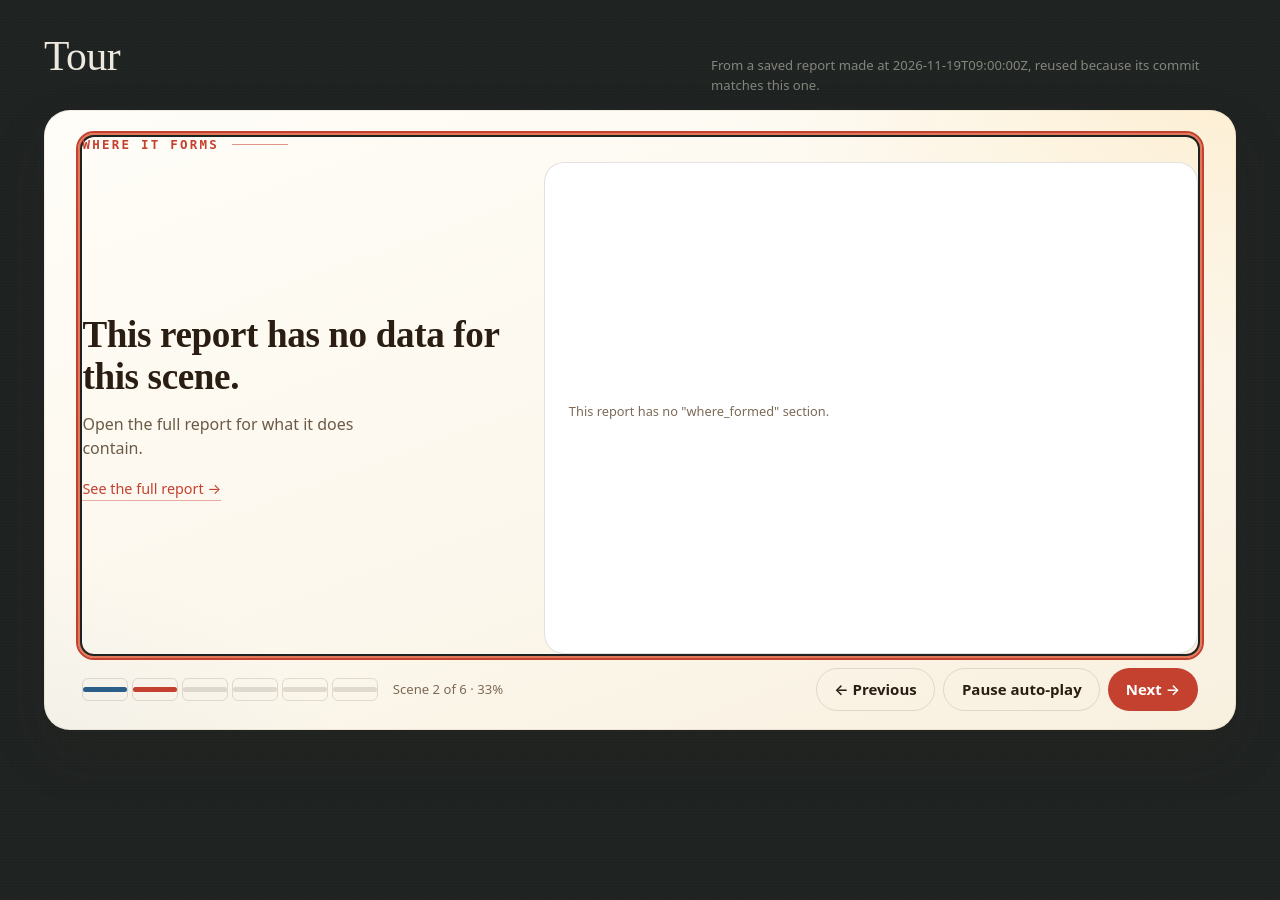
Scenario: Tour component › auto-advances without reduced motion and pauses on request
Later steps or results of the test are not shown.
Expected: the heading "Where it forms" is shown, [82,137,219,152]
Step 1. Click the button "Pause auto-play" → [1022, 689], box [943,668,1100,711]
Wait 42000 ms
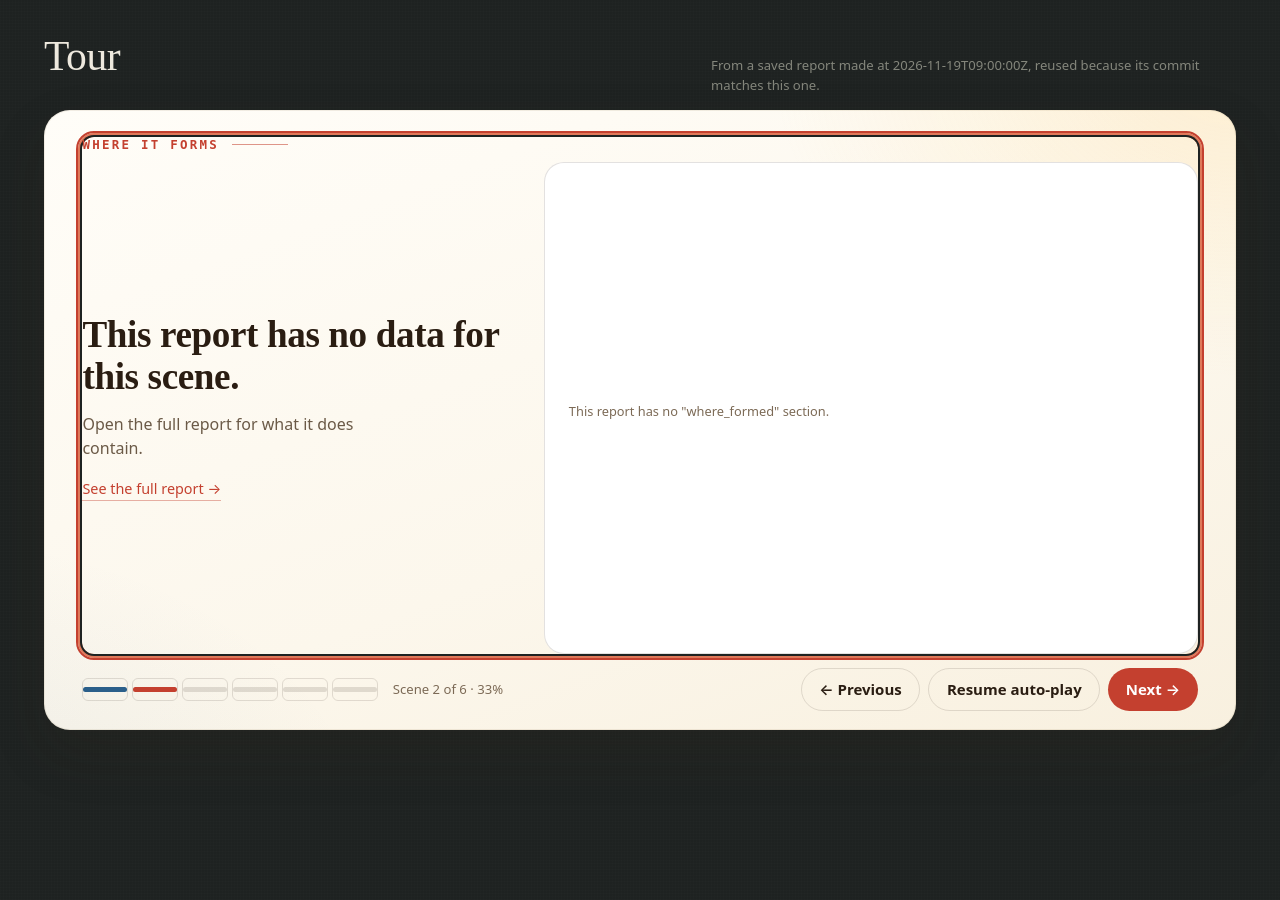
Expected: the heading "Where it forms" is shown, [82,137,219,152]
Now the button "Resume auto-play" is shown, box [928,668,1100,711]
